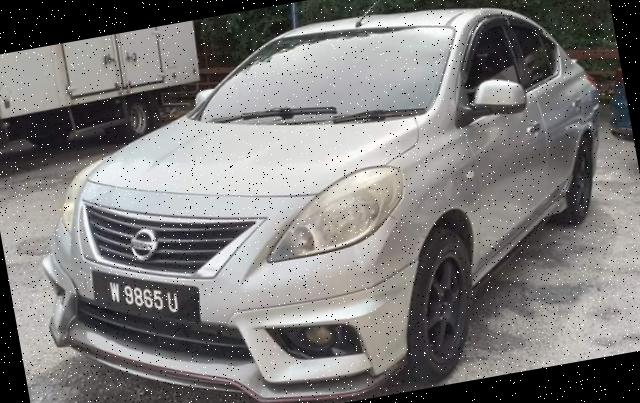License_Plate: (87, 255, 197, 335)
car: (5, 1, 640, 403)
